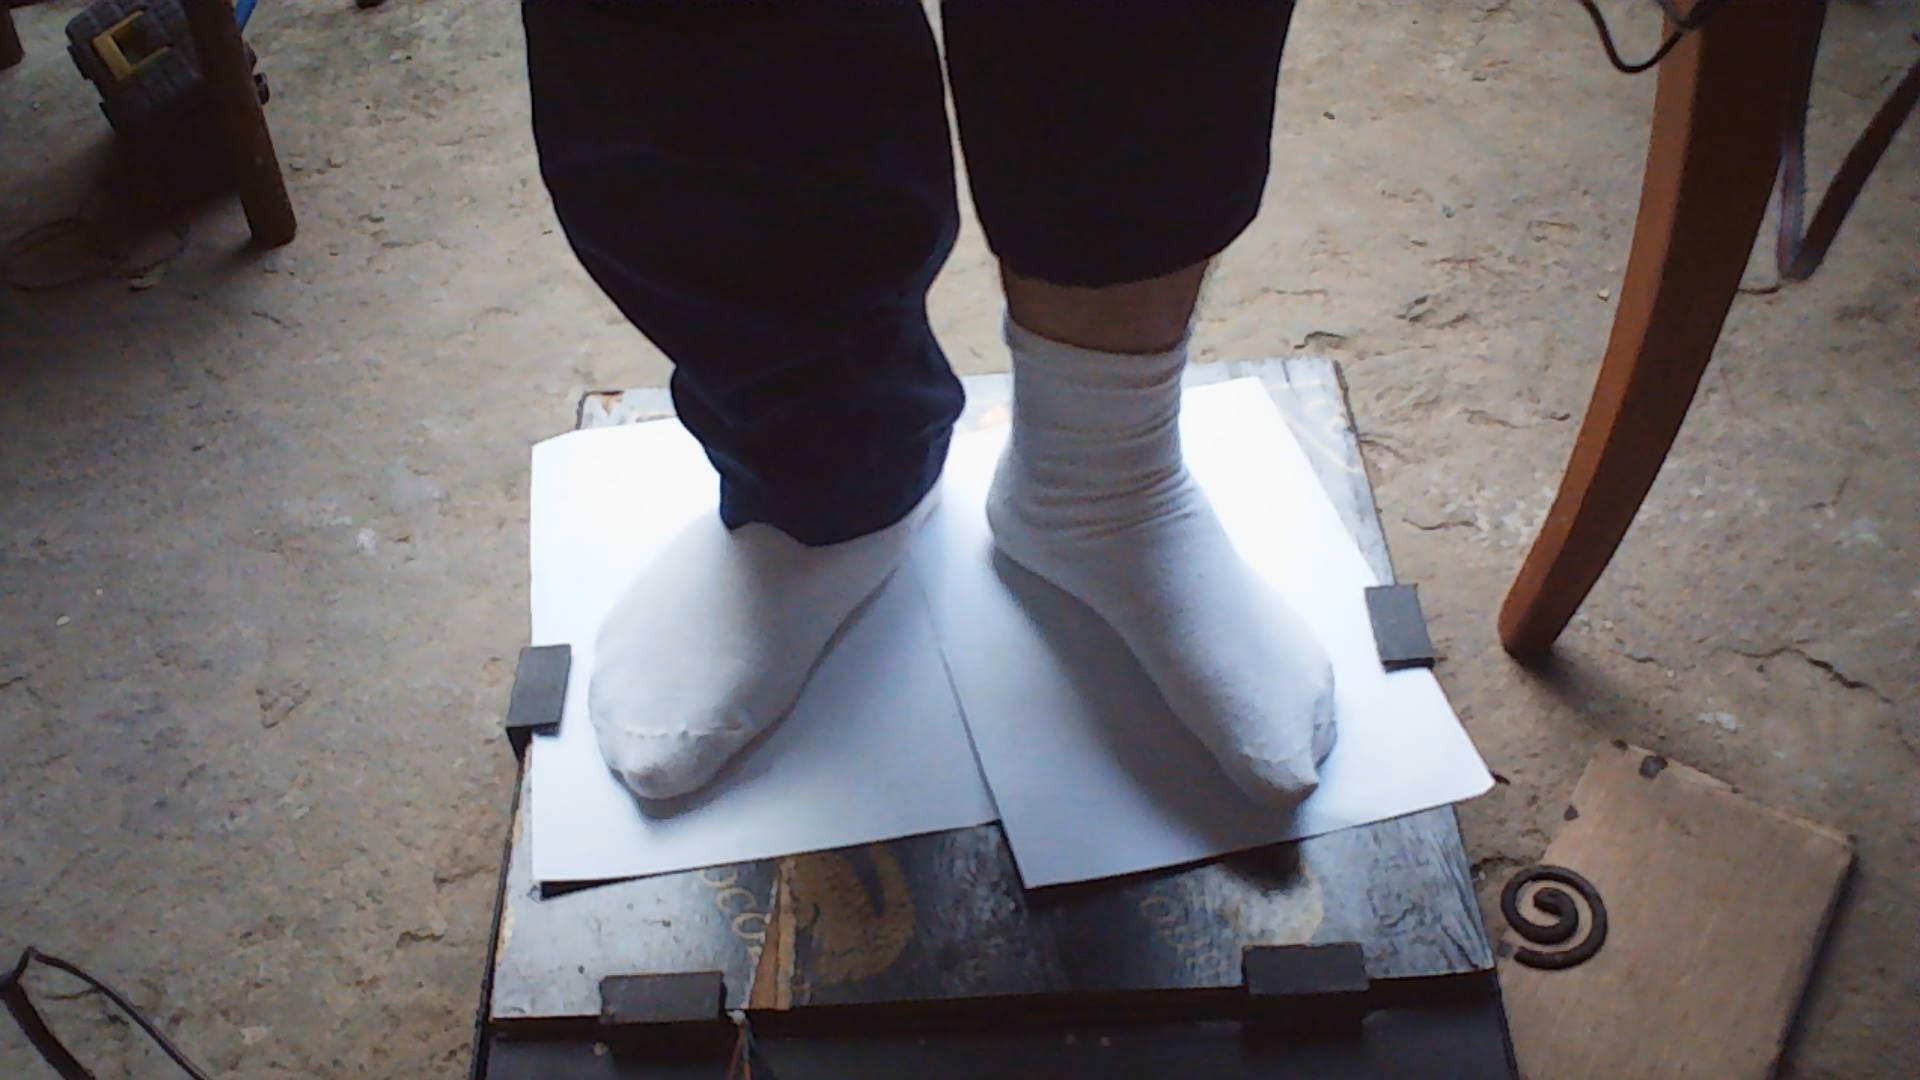white_socks: (550, 280, 972, 840), (985, 282, 1345, 818)
